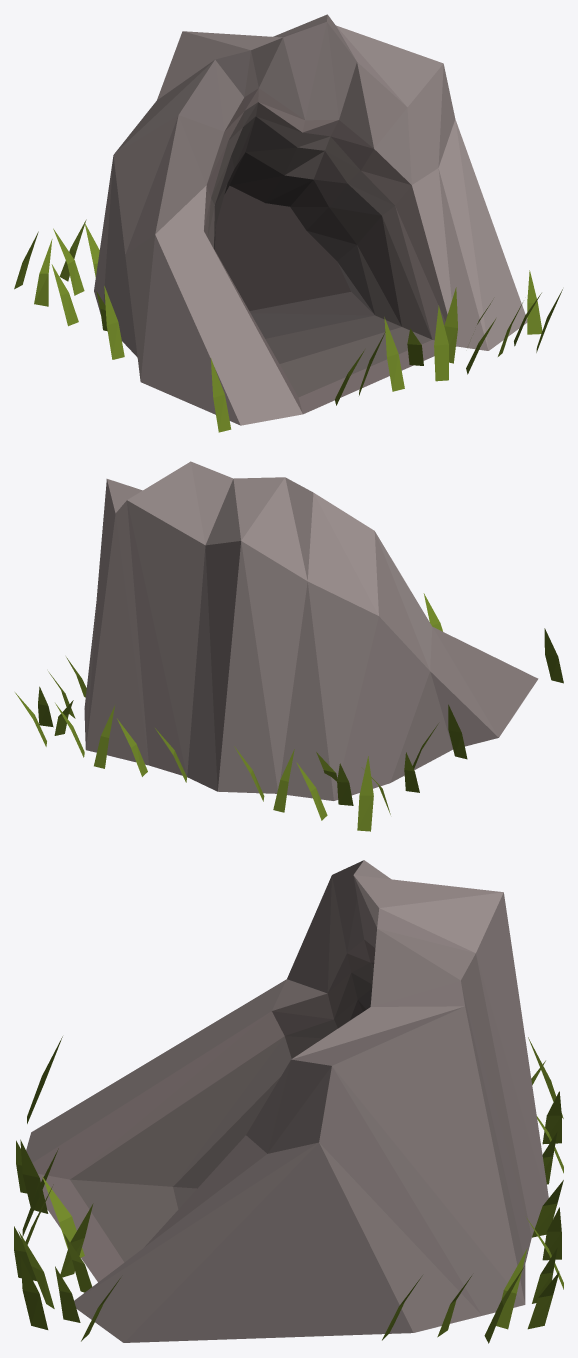
Rendered from dungeon.gltf.
3 views of the same model, one above another, from view 1: azimuth 30°, elevation 25°; view 2: azimuth 150°, elevation 25°; view 3: azimuth 270°, elevation 25° (orthographic). The views are drawn at different scales.
Size of the model in its own units: 255 by 177 by 256.
Materials: 1 (1 with a texture image).
